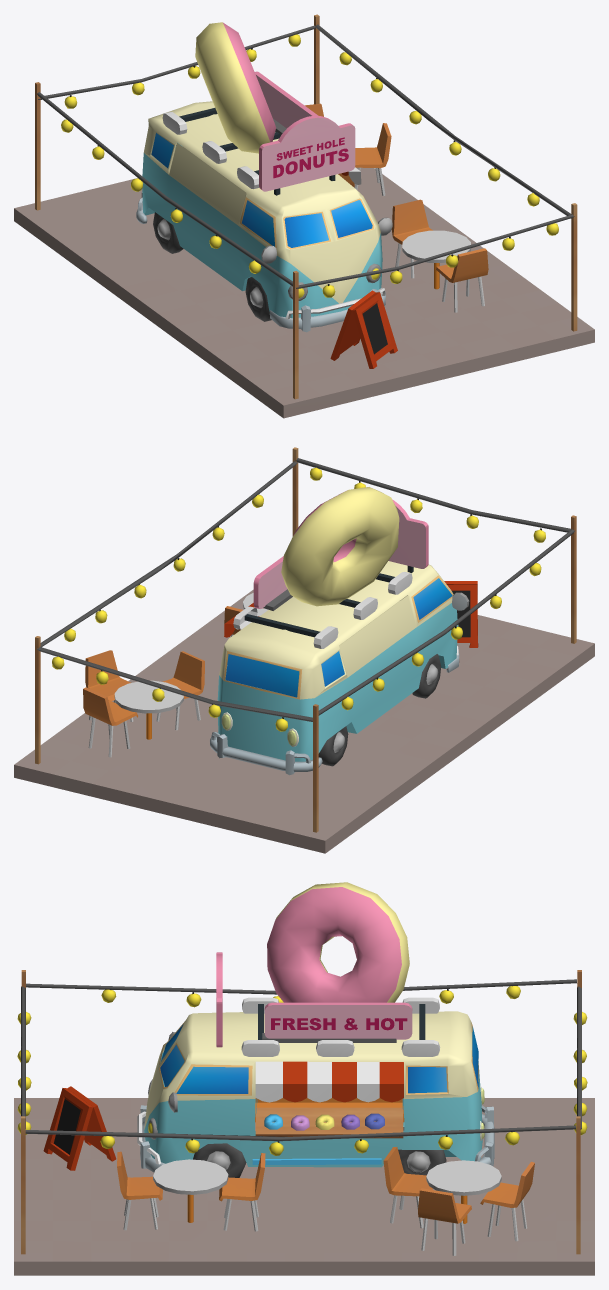
File: FoodTruck.fbx
3 views of the same model, one above another, from view 1: azimuth 30°, elevation 25°; view 2: azimuth 150°, elevation 25°; view 3: azimuth 270°, elevation 25° (orthographic). The views are drawn at different scales.
Visible parts, largest first — view 1: FoodTruck; view 2: FoodTruck; view 3: FoodTruck.
Boxes of the visible parts, x1=… form: FoodTruck: x1=14, y1=14, x2=594, y2=418; FoodTruck: x1=14, y1=447, x2=594, y2=853; FoodTruck: x1=14, y1=882, x2=594, y2=1275.
Bounding box in the file's own units: 2 × 1.56 × 3.
